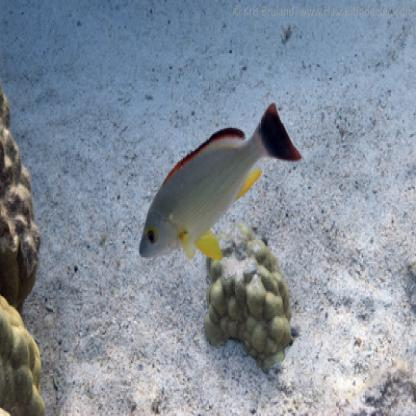Lutjanidae -Snappers-: (137, 98, 304, 271)
